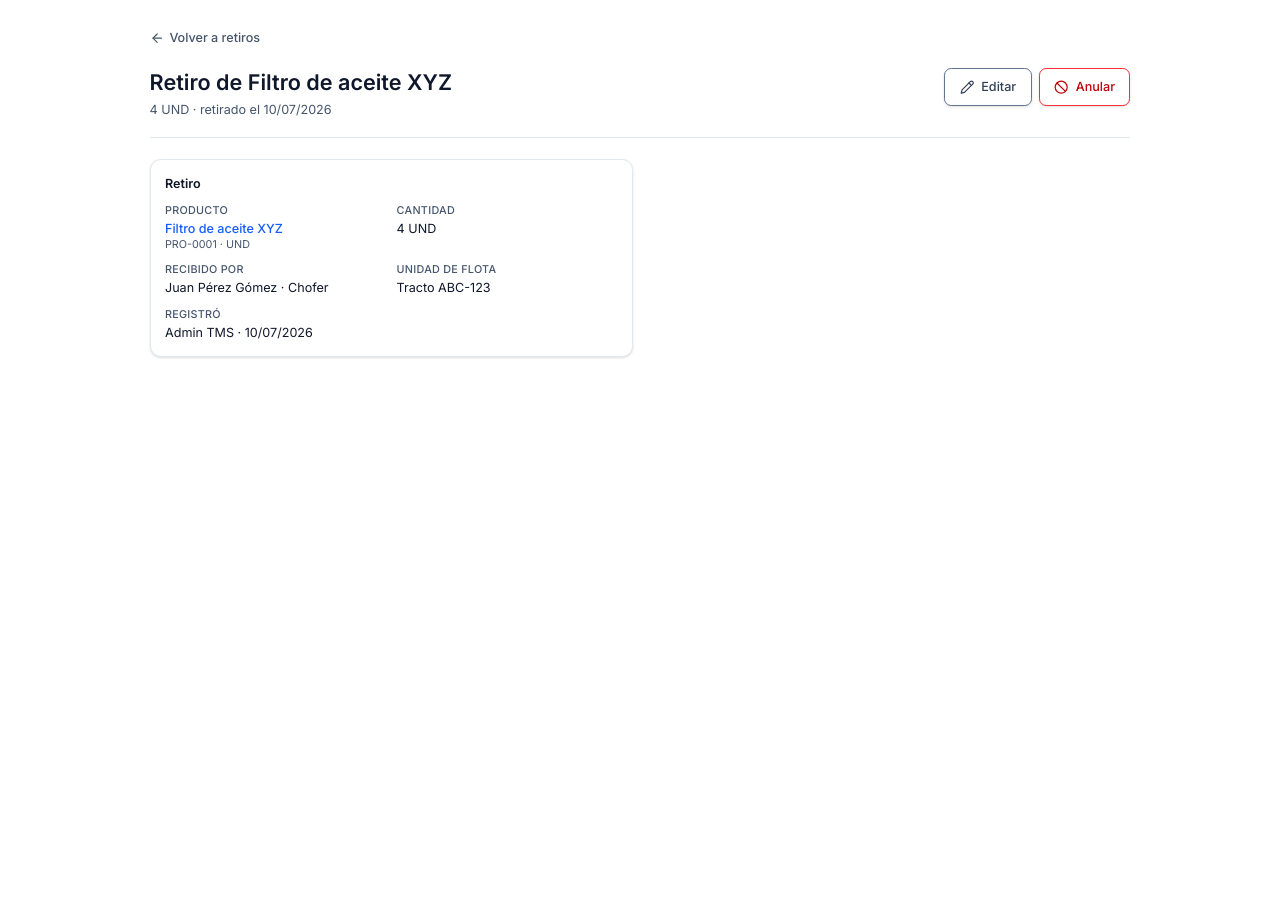
it: WithdrawalDetailPage › anular con un motivo válido refleja el estado anulado
Click the button "Anular" at (1085, 87), box [1039,68,1130,106]
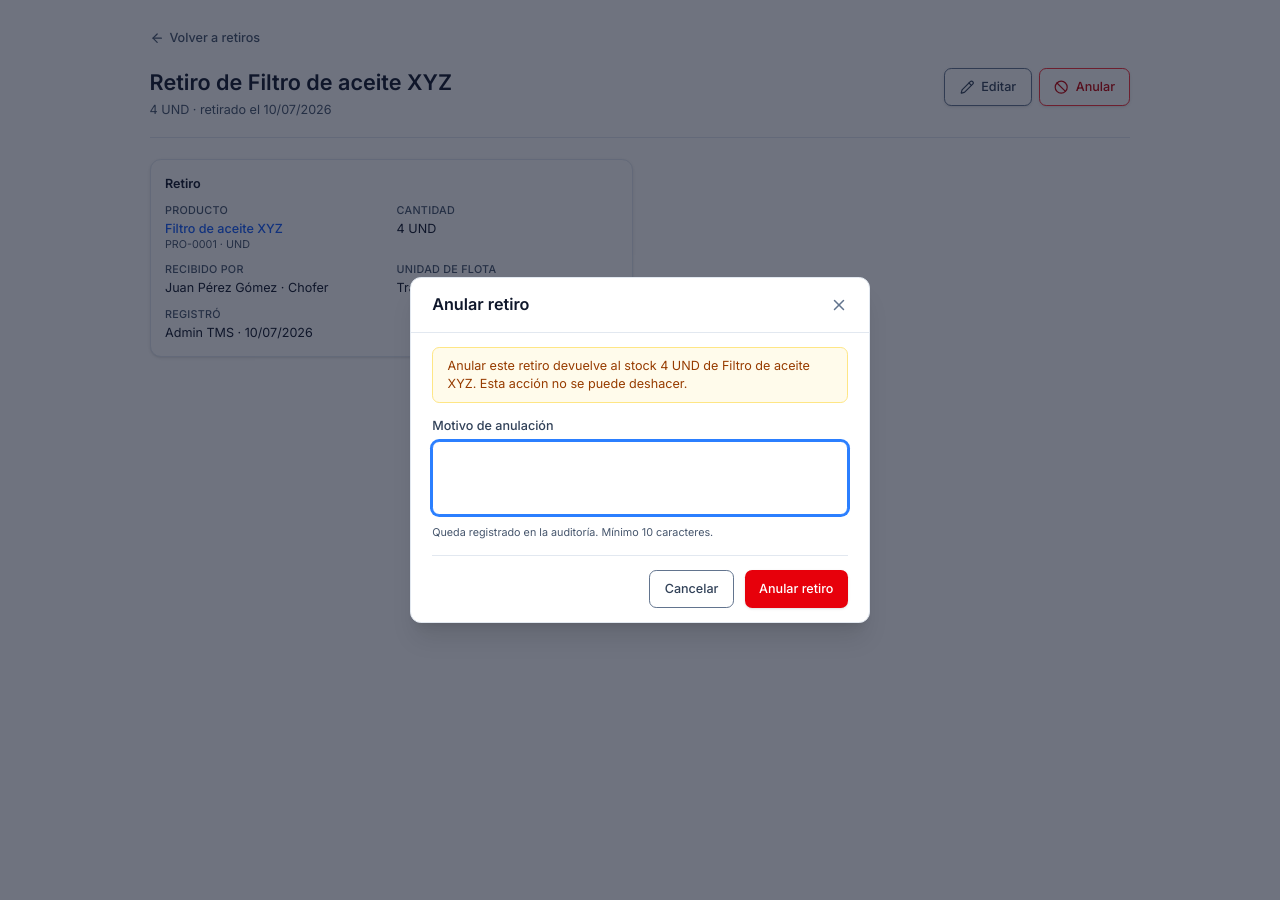
Type "Retiro cargado dos veces por error" into the text box labelled "Motivo de anulación" at (640, 478), box [432,441,848,515]
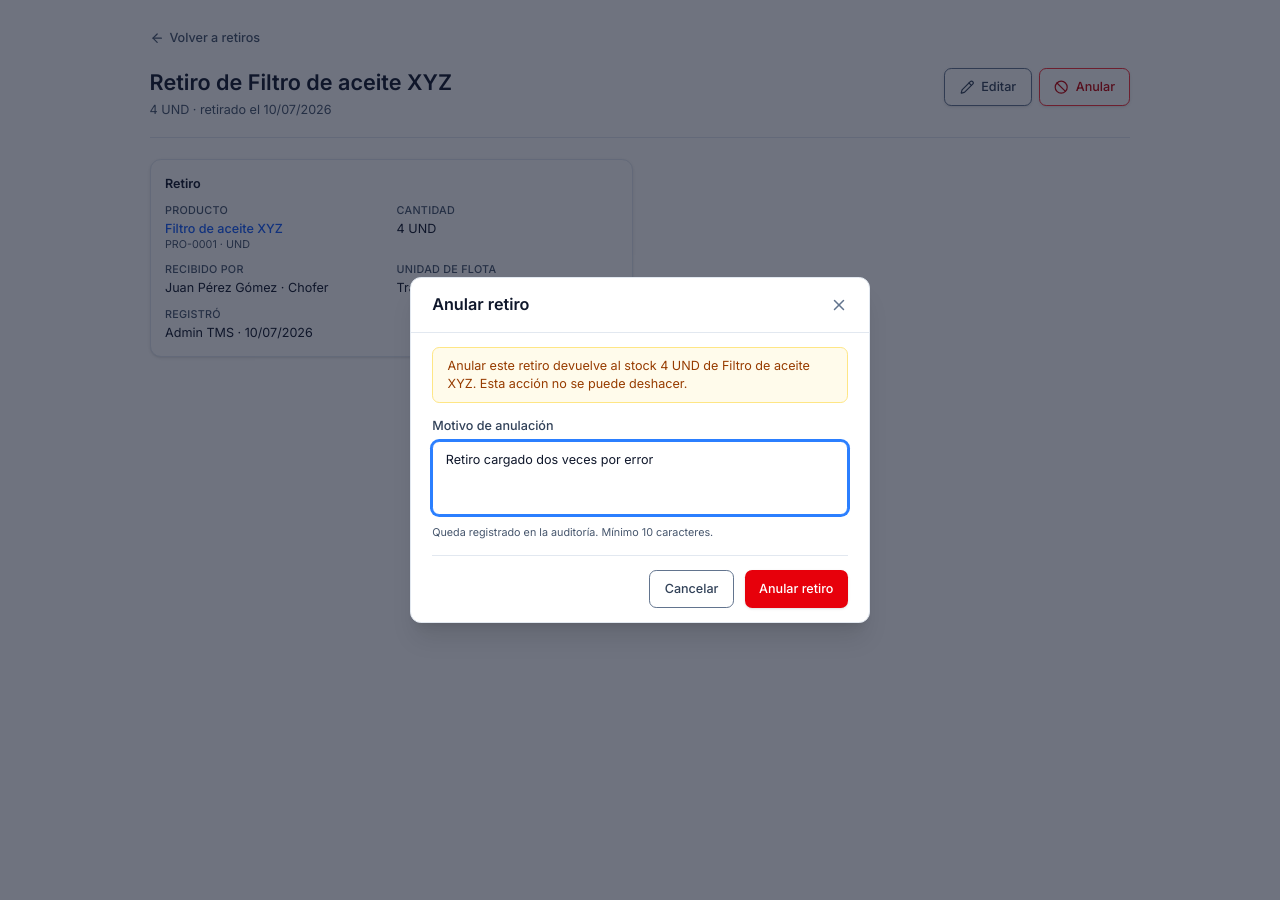
Click the button "Anular retiro" at (796, 589), box [745,570,848,608]
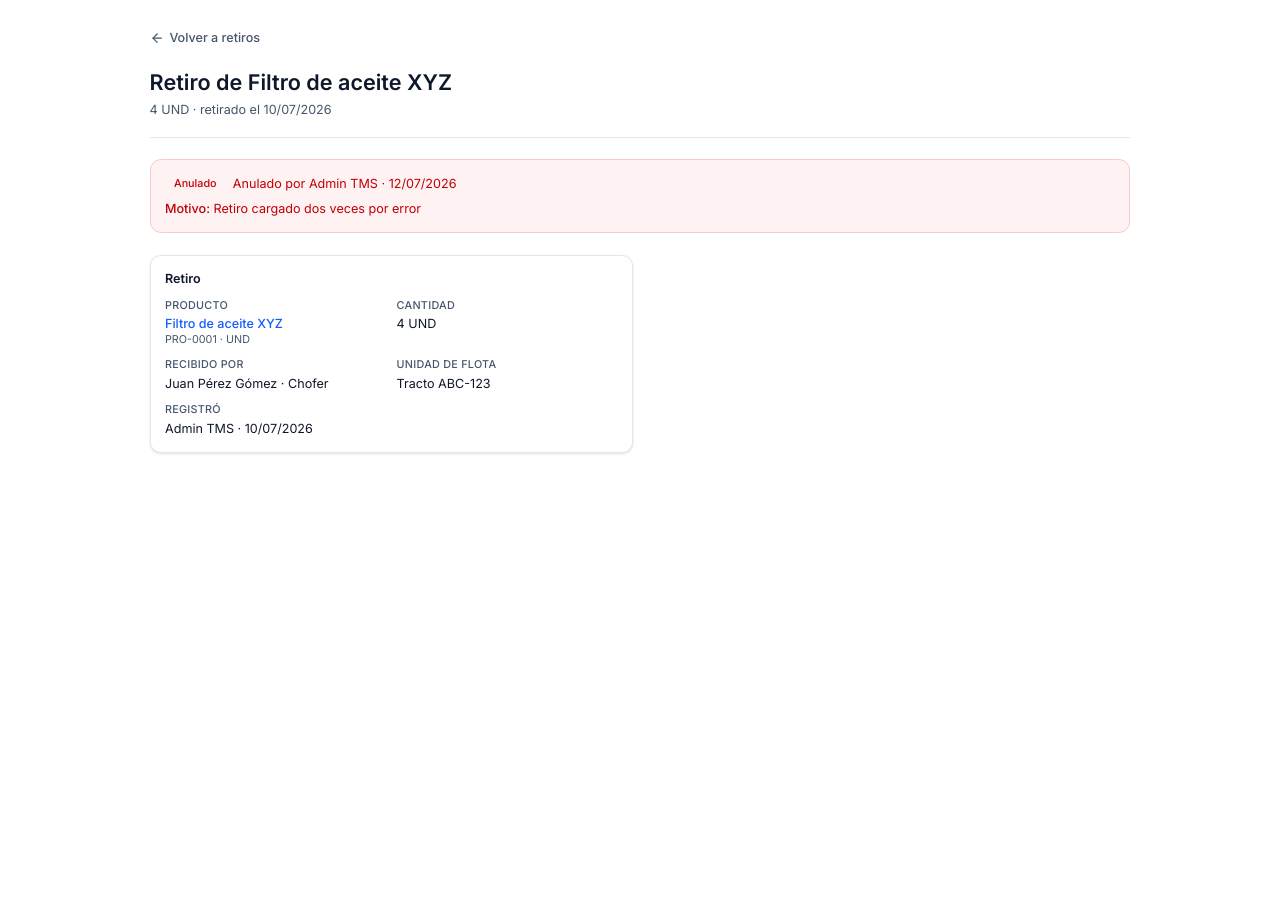
Expected: the dialog is gone
Expected: the text "Anulado" is shown, [165,175,226,193]
Expected: the button "Anular" is gone
